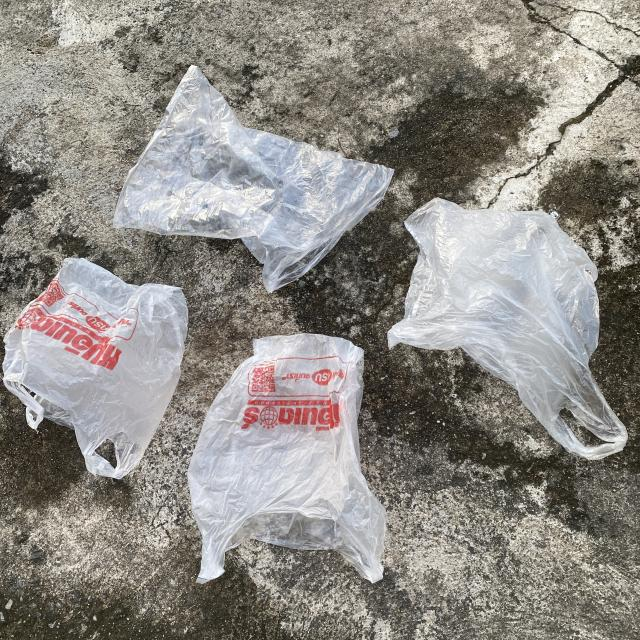Single-layer Plastic: (388, 199, 628, 460), (114, 66, 392, 291), (189, 335, 385, 582), (2, 259, 188, 479)
